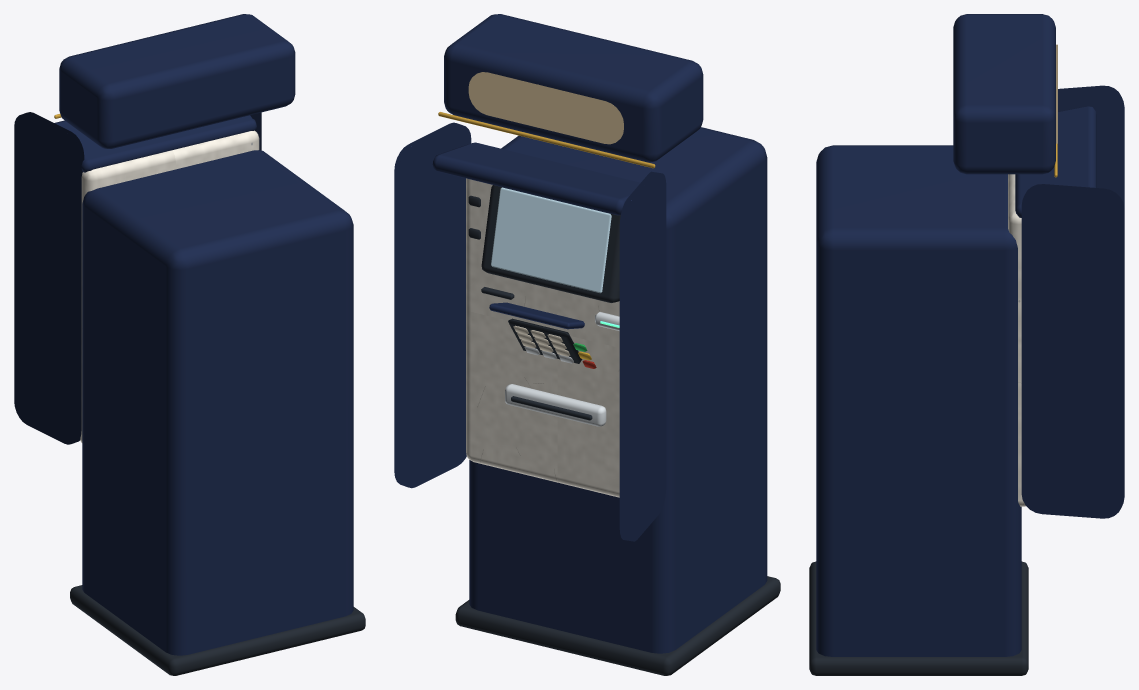
Rendered from atm_T1.fbx.
3 renders of one model, left to right at view 1: azimuth 30°, elevation 25°; view 2: azimuth 150°, elevation 25°; view 3: azimuth 270°, elevation 25°, orthographic. The views are drawn at different scales.
Visible parts, largest first — view 1: Body; view 2: Body; view 3: Body.
Boxes of the visible parts, x1=… form: Body: x1=14, y1=14, x2=365, y2=675; Body: x1=394, y1=14, x2=780, y2=675; Body: x1=809, y1=14, x2=1124, y2=675.
Bounding box in the file's own units: 0.7616 × 1.83 × 0.9203.
